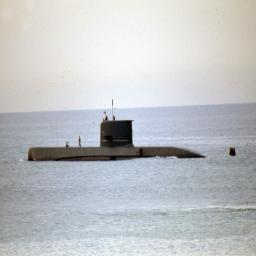submarine: (29, 99, 237, 163)
